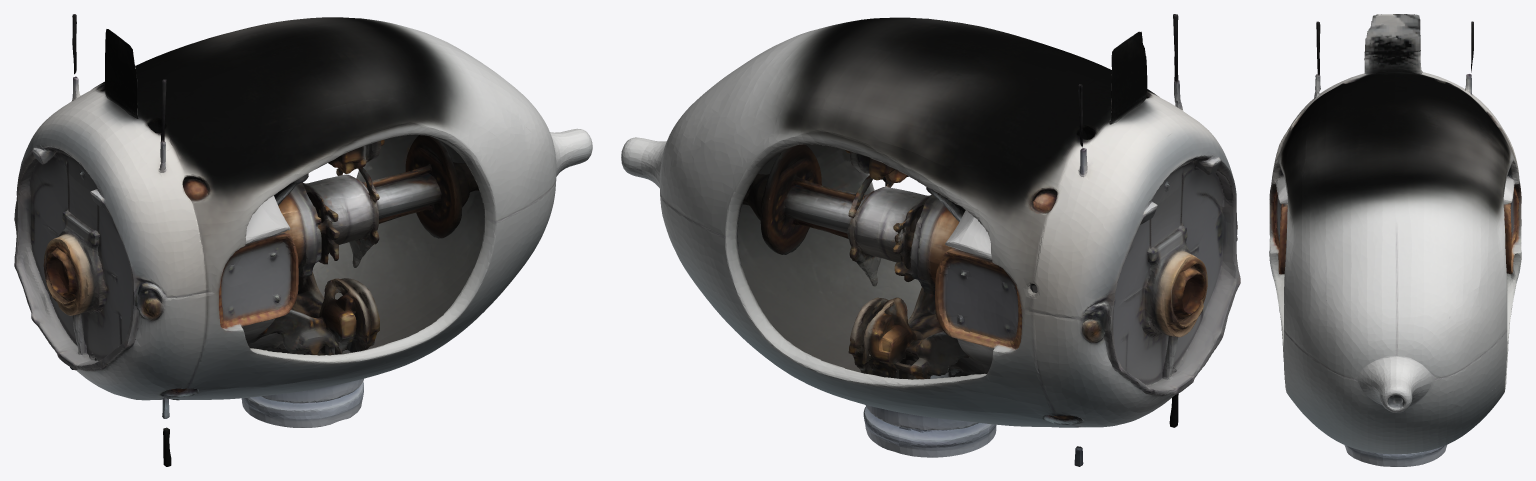
Rendered from Nacelle_Shell.glb.
The picture shows the model from 3 angles, left to right: view 1: azimuth 30°, elevation 25°; view 2: azimuth 150°, elevation 25°; view 3: azimuth 270°, elevation 25°; orthographic projection. The views are drawn at different scales.
Parts seen in each view (by area): view 1: world; view 2: world; view 3: world.
Boxes of the visible parts, <box> form: world: <box>14,14,592,466</box>; world: <box>621,14,1240,466</box>; world: <box>1269,14,1521,466</box>.
Size of the model in its own units: 0.993 by 0.7337 by 0.4732.
1 material, 1 textured.
